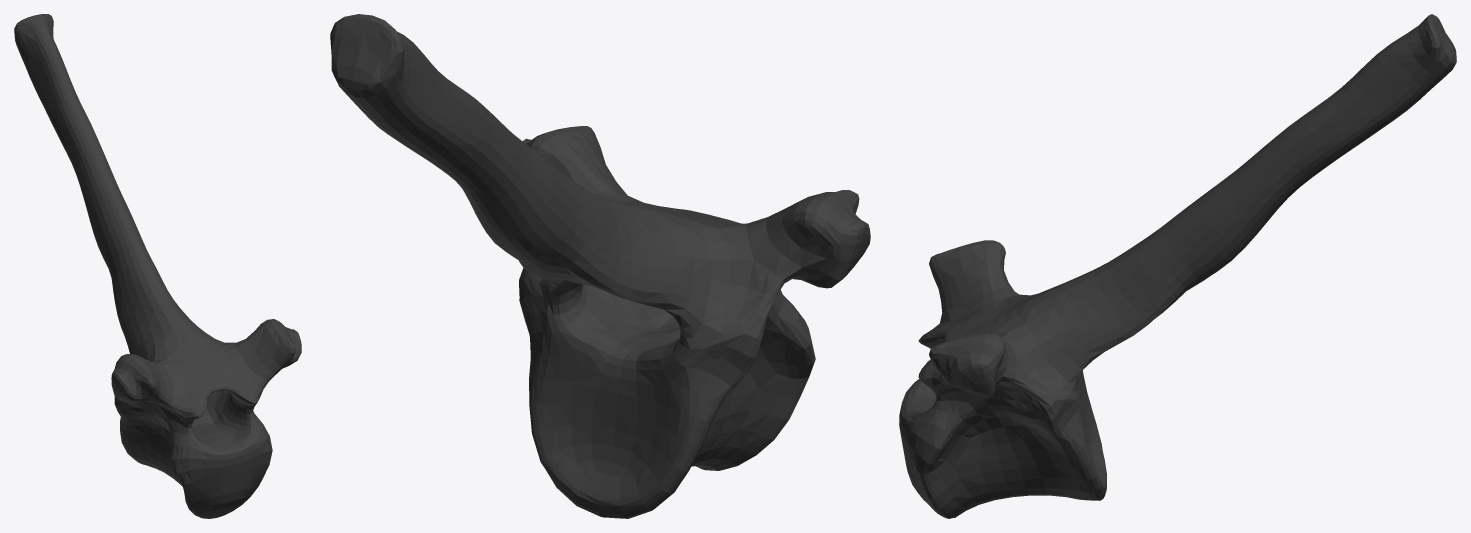
The picture shows the model from 3 angles, left to right: view 1: azimuth 30°, elevation 25°; view 2: azimuth 150°, elevation 25°; view 3: azimuth 270°, elevation 25°; orthographic projection. The views are drawn at different scales.
Visible parts, largest first — view 1: b_T8_LO; view 2: b_T8_LO; view 3: b_T8_LO.
Boxes of the visible parts, x1,y1,x2,y2 form: b_T8_LO: (14, 14, 301, 518); b_T8_LO: (330, 14, 870, 518); b_T8_LO: (899, 14, 1456, 518).
Bounding box in the file's own units: 0.000909 × 0.00176 × 0.0018.
1 material, 1 textured.
